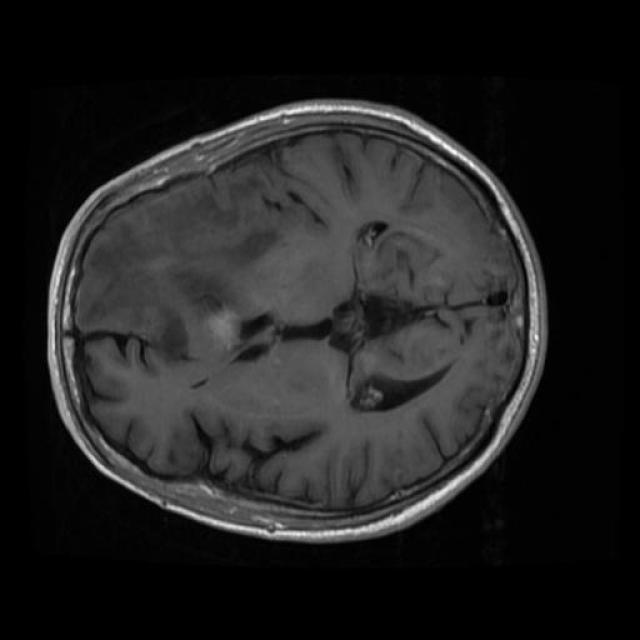Glioma: (153, 270, 243, 359)
